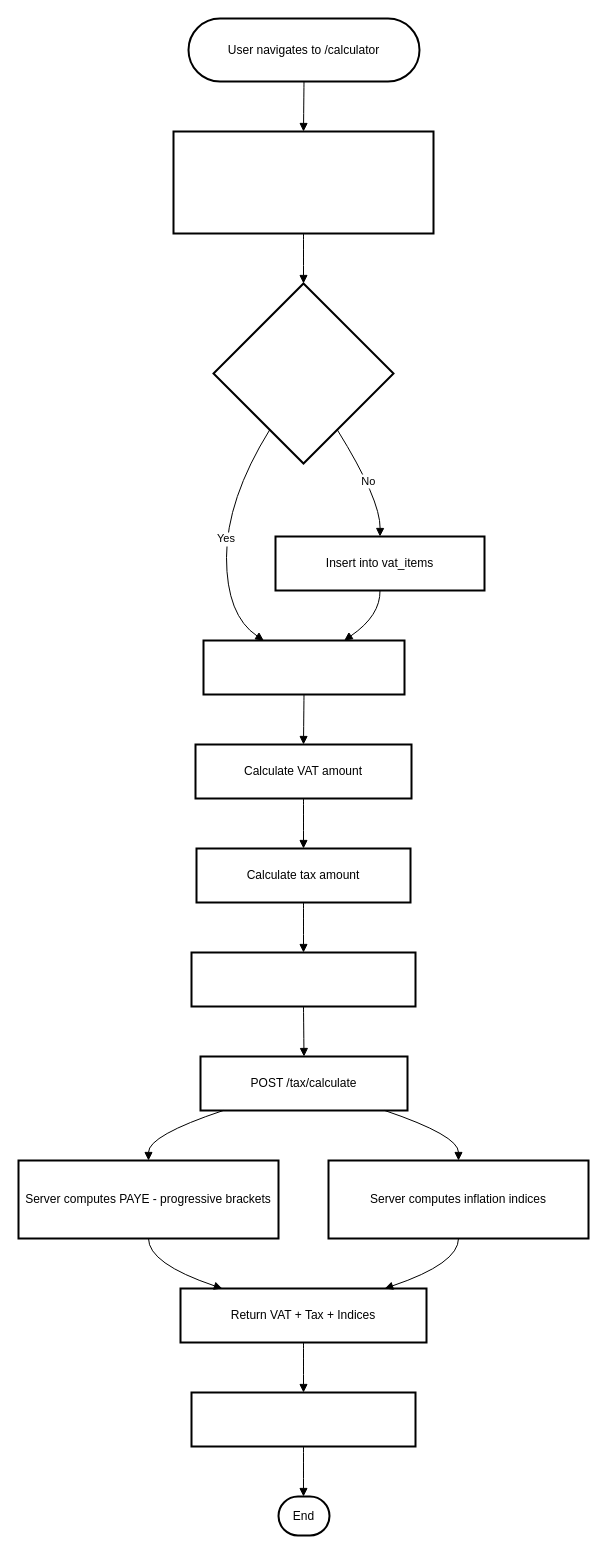
This 606x1553 diagram has some shape labels left out. The shapes that lost their labels are listed below. From the top down, each one's box as (x1, y1, x2, y2) in pixels, then its label:
(172, 130, 434, 234): Enter income, rent, pension rate, turnover, assets
(212, 282, 394, 464): Item in VATItems?
(202, 639, 405, 695): Apply 7.5% VAT rate
(190, 951, 416, 1007): Save vat_items to Hive
(190, 1391, 416, 1447): Display Results Receipt
